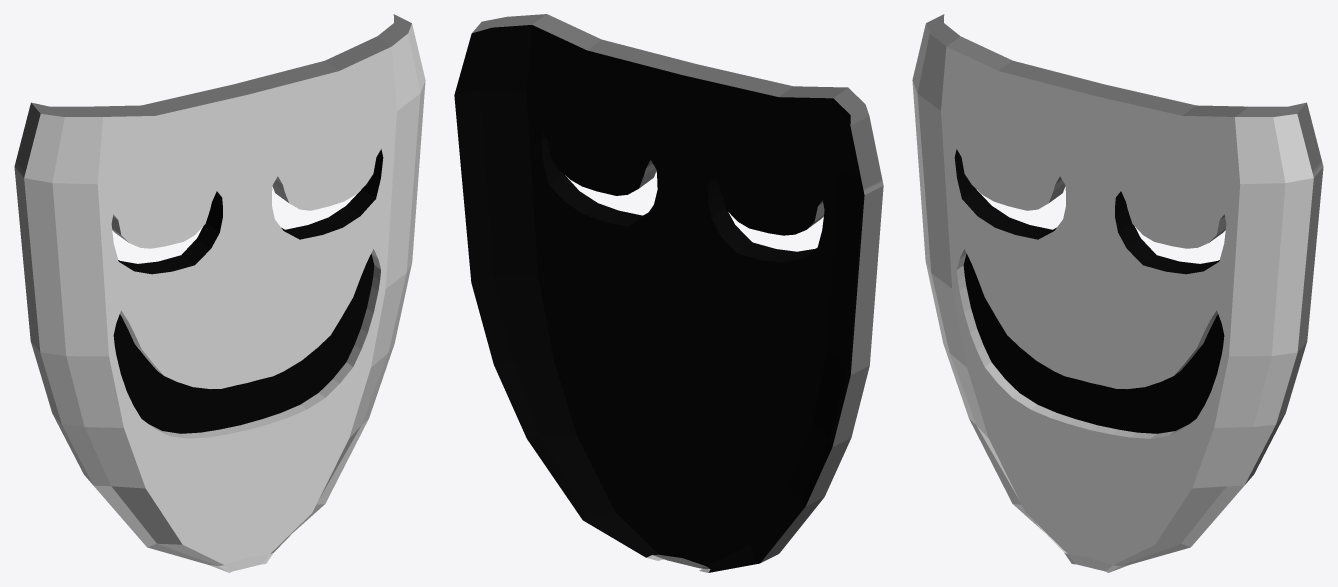
The model's file is EuphoriaMask.fbx.
3 renders of one model, left to right at view 1: azimuth 30°, elevation 25°; view 2: azimuth 150°, elevation 25°; view 3: azimuth 330°, elevation 25°, orthographic. The views are drawn at different scales.
Visible parts, largest first — view 1: Cube; view 2: Cube; view 3: Cube.
Part boxes in pixels (<box>): Cube: <box>14,14,425,572</box>; Cube: <box>454,14,883,572</box>; Cube: <box>912,14,1323,572</box>.
Bounding box in the file's own units: 34.49 × 39.94 × 5.5.
